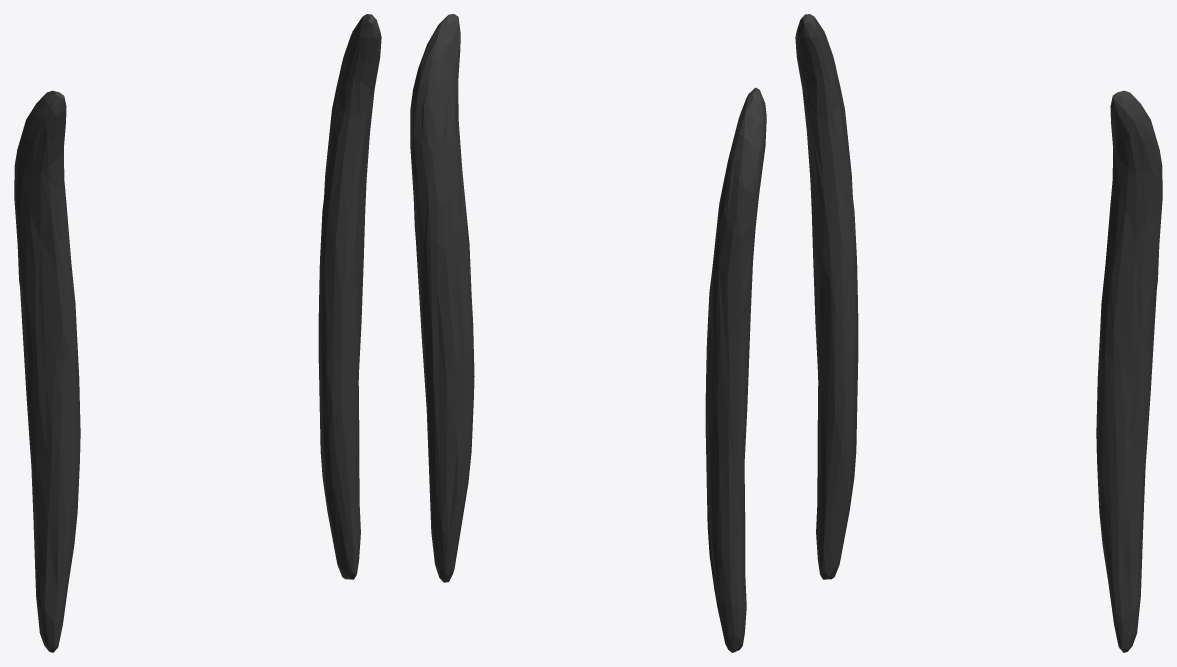
Rendered from m_flexor_carpi_ulnaris_humeral.glb.
The picture shows the model from 3 angles, left to right: view 1: azimuth 30°, elevation 25°; view 2: azimuth 150°, elevation 25°; view 3: azimuth 330°, elevation 25°; orthographic projection. The views are drawn at different scales.
Parts seen in each view (by area): view 1: m_flexor_carpi_ulnaris_humeral; view 2: m_flexor_carpi_ulnaris_humeral; view 3: m_flexor_carpi_ulnaris_humeral.
Boxes of the visible parts, left/top/right/bottom form: m_flexor_carpi_ulnaris_humeral: left=14, top=14, right=381, bottom=652; m_flexor_carpi_ulnaris_humeral: left=410, top=14, right=766, bottom=652; m_flexor_carpi_ulnaris_humeral: left=795, top=14, right=1162, bottom=652.
Bounding box in the file's own units: 0.00454 × 0.00699 × 0.000794.
1 material, 1 textured.
